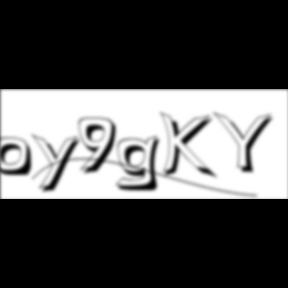9: (78, 117, 124, 177)
K: (160, 110, 220, 182)
Y: (212, 110, 280, 176)
g: (116, 134, 168, 194)
o: (1, 137, 36, 179)
y: (32, 132, 86, 196)
